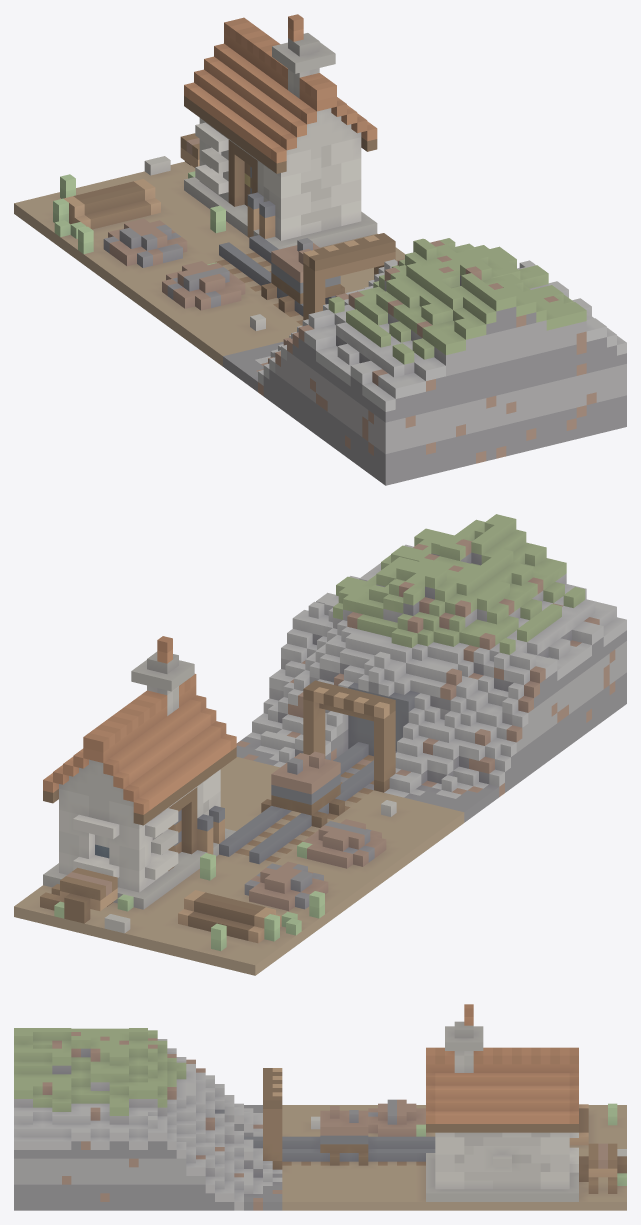
File: iron_mine.glb
The picture shows the model from 3 angles, top to bottom: view 1: azimuth 30°, elevation 25°; view 2: azimuth 150°, elevation 25°; view 3: azimuth 270°, elevation 25°; orthographic projection. The views are drawn at different scales.
Parts seen in each view (by area): view 1: iron_mine; view 2: iron_mine; view 3: iron_mine.
Part boxes in pixels (x1,y1,x2,y2): iron_mine: [14, 14, 626, 485]; iron_mine: [14, 514, 626, 975]; iron_mine: [14, 1004, 626, 1210].
Size of the model in its own units: 3 by 2.62 by 8.
